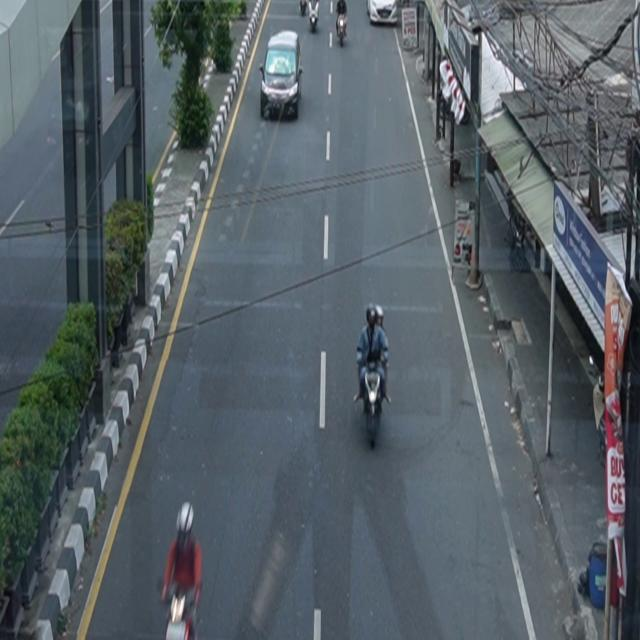car: (260, 31, 304, 121), (367, 1, 398, 26)
